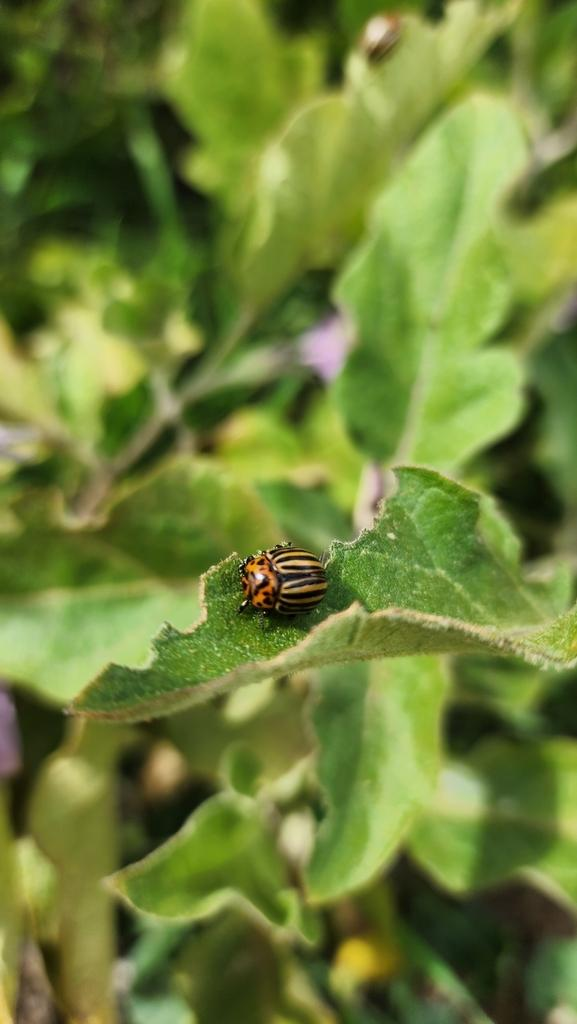potato_beetle: (222, 511, 349, 641)
